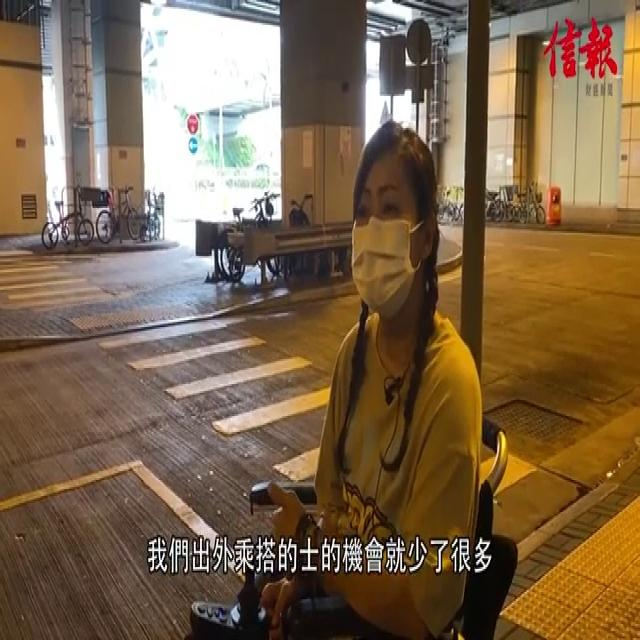wheelchairs: (176, 403, 526, 640)
